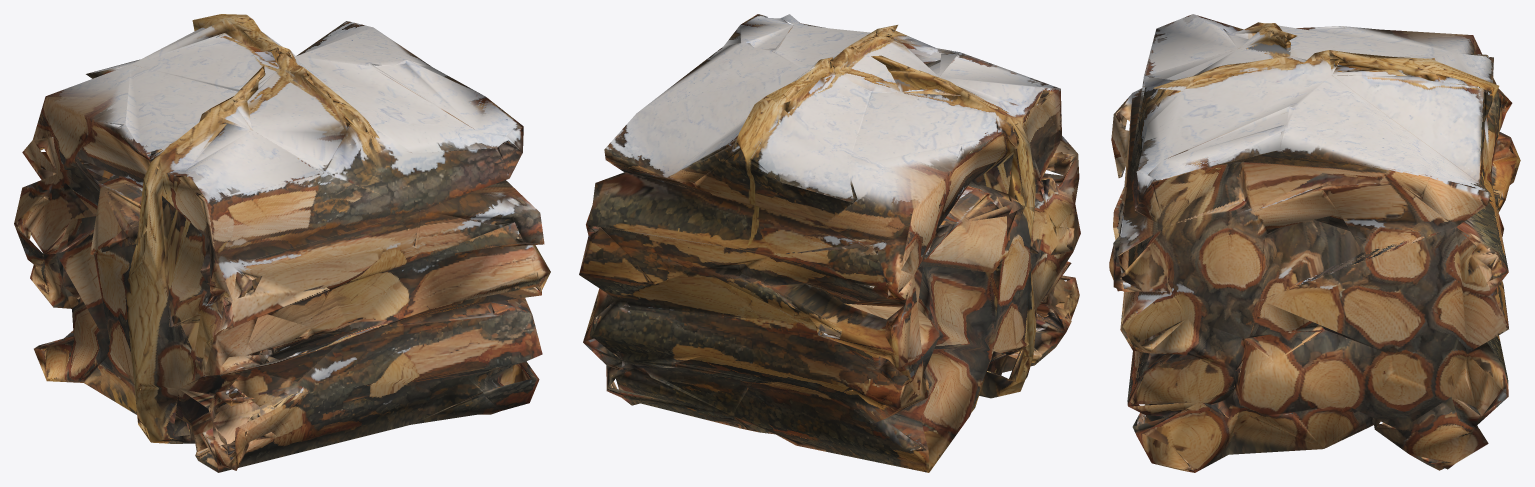
Rendered from PR_Firewood.fbx.
3 views of the same model, side by side, from view 1: azimuth 30°, elevation 25°; view 2: azimuth 150°, elevation 25°; view 3: azimuth 270°, elevation 25° (orthographic). The views are drawn at different scales.
Parts seen in each view (by area): view 1: texture_mapping; view 2: texture_mapping; view 3: texture_mapping.
Boxes of the visible parts, x1,y1,x2,y2 form: texture_mapping: (14, 14, 550, 472); texture_mapping: (579, 14, 1080, 472); texture_mapping: (1109, 14, 1520, 472).
Size of the model in its own units: 0.9434 by 0.9443 by 0.901.
Materials: 1 (1 with a texture image).
